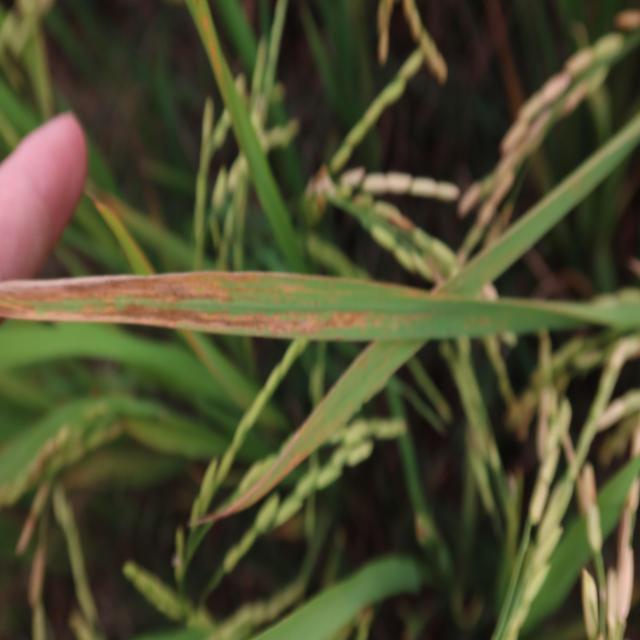Dom soc vi khuan: (0, 273, 395, 338)
